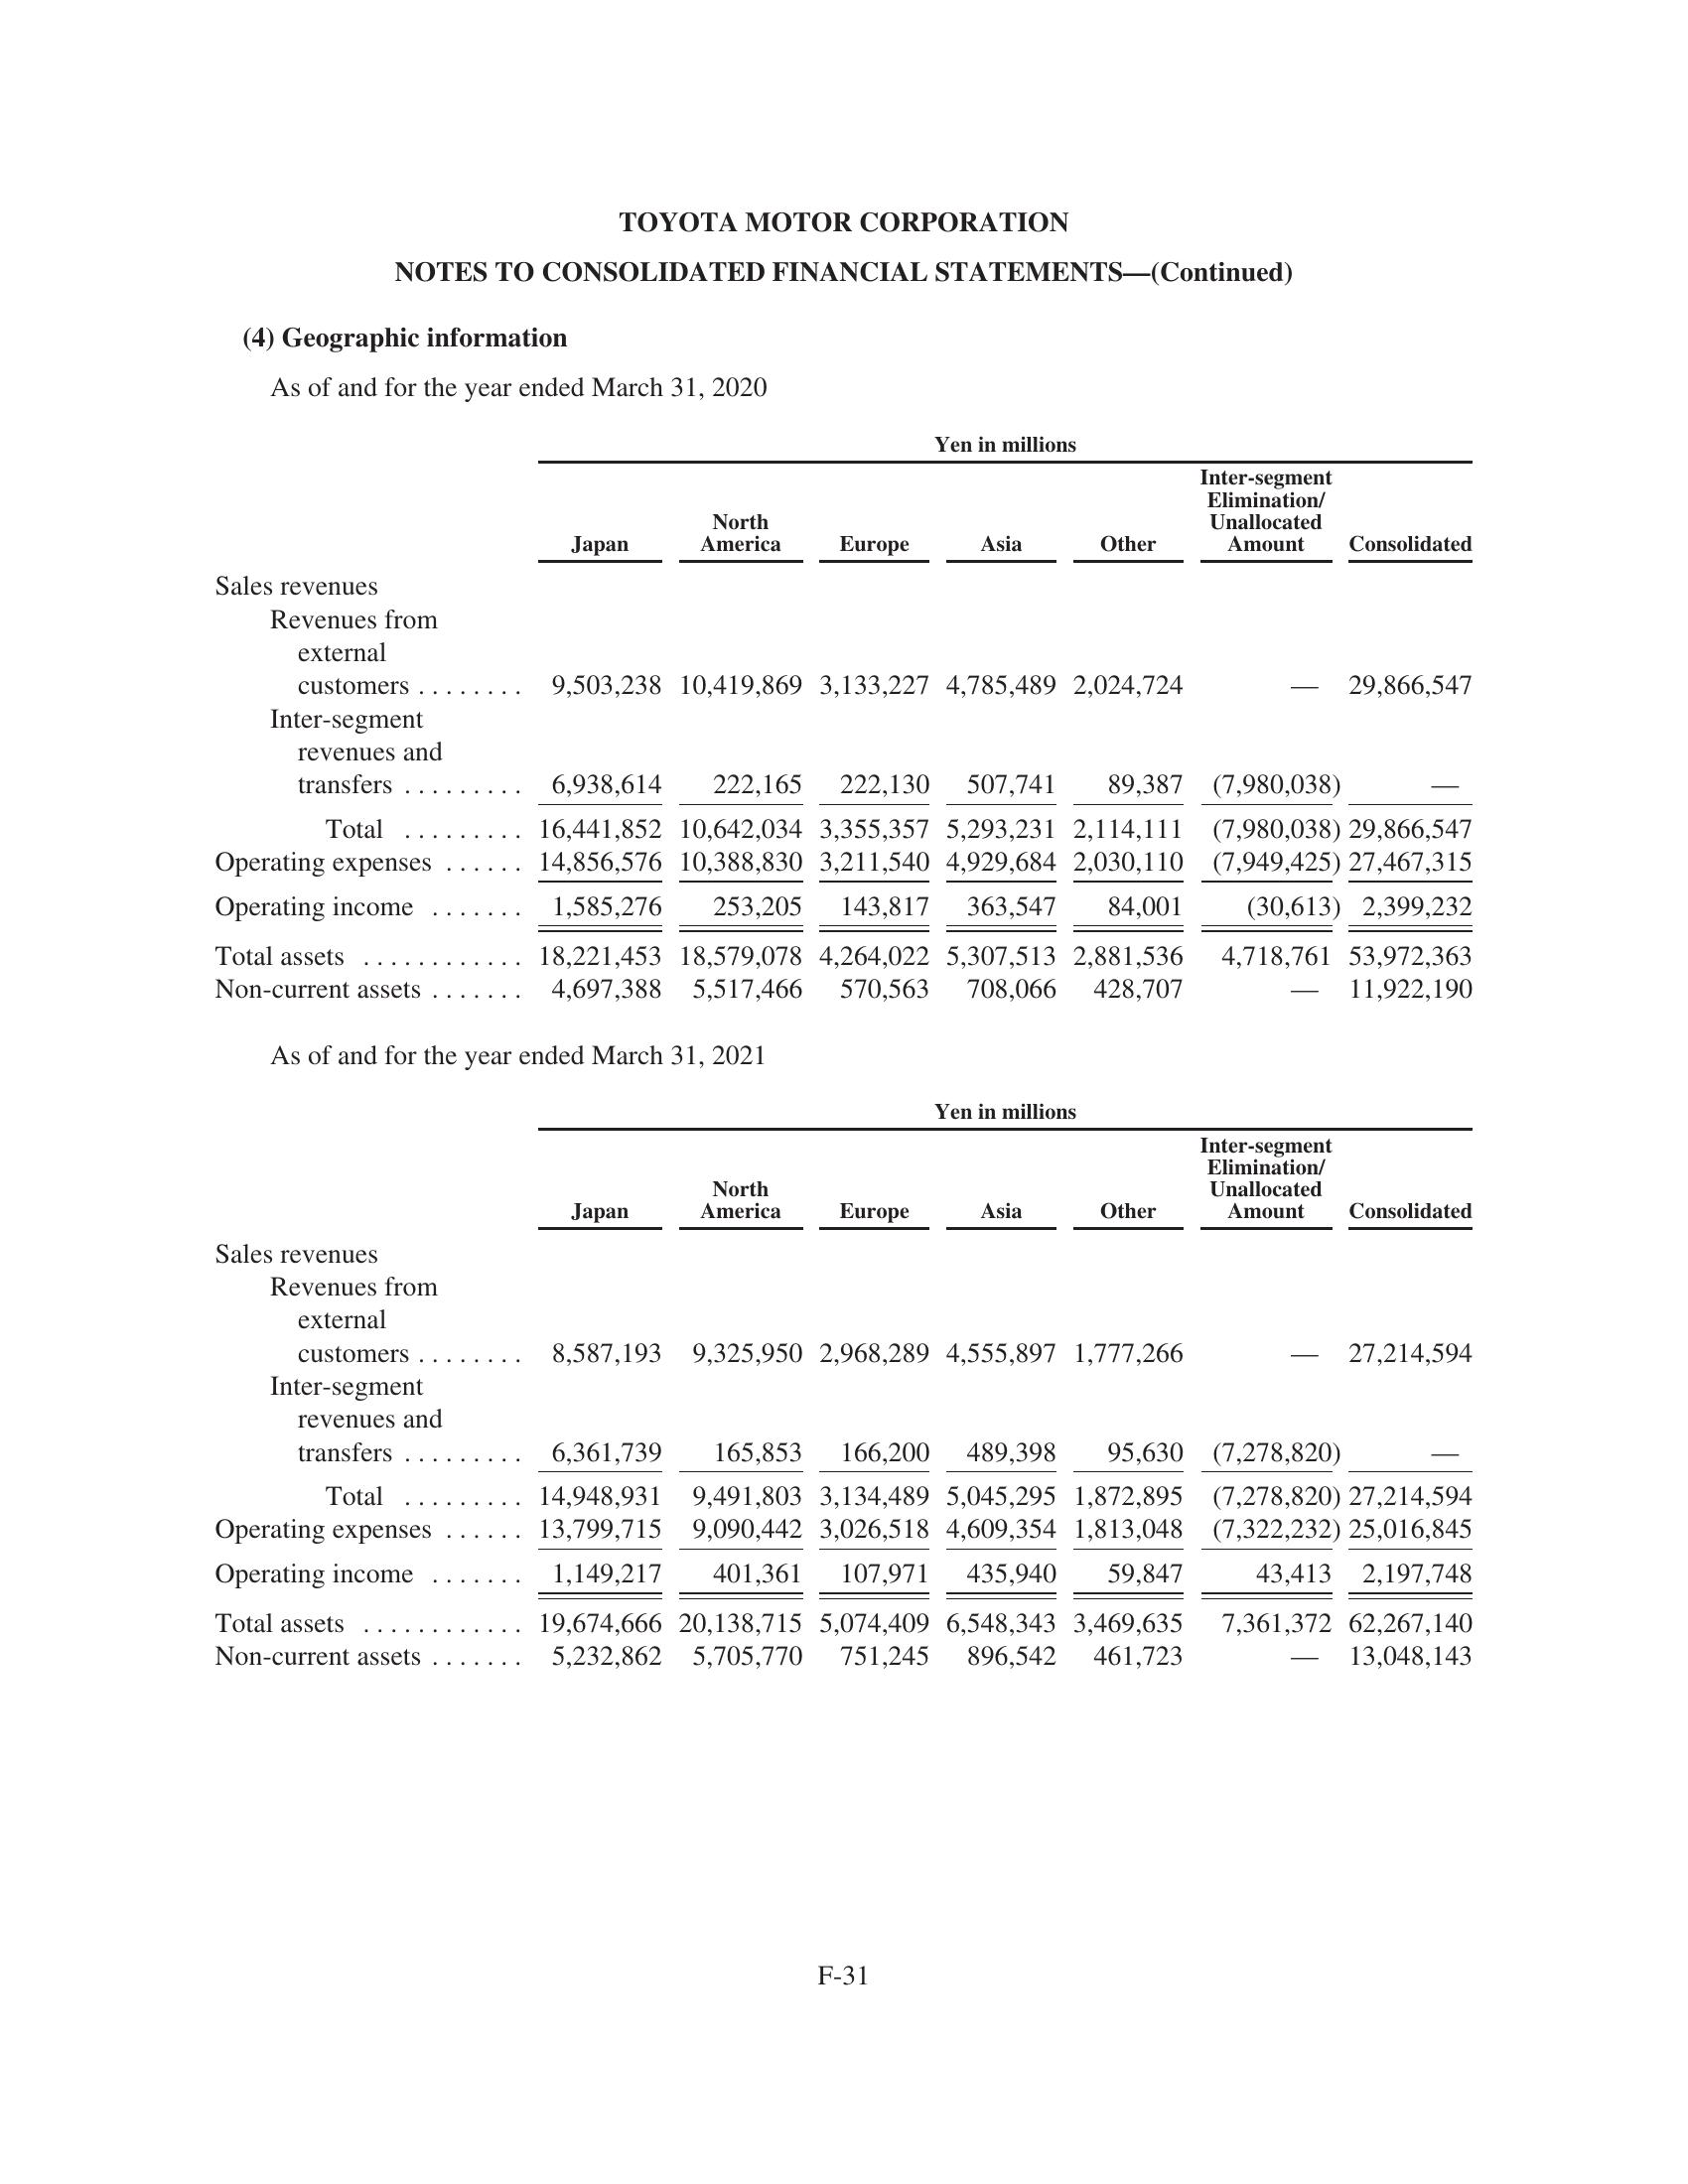Footer: (0, 1950, 1688, 2184)
Header: (0, 0, 1688, 170)
Table: (184, 1081, 1509, 1698), (170, 417, 1525, 1009)
